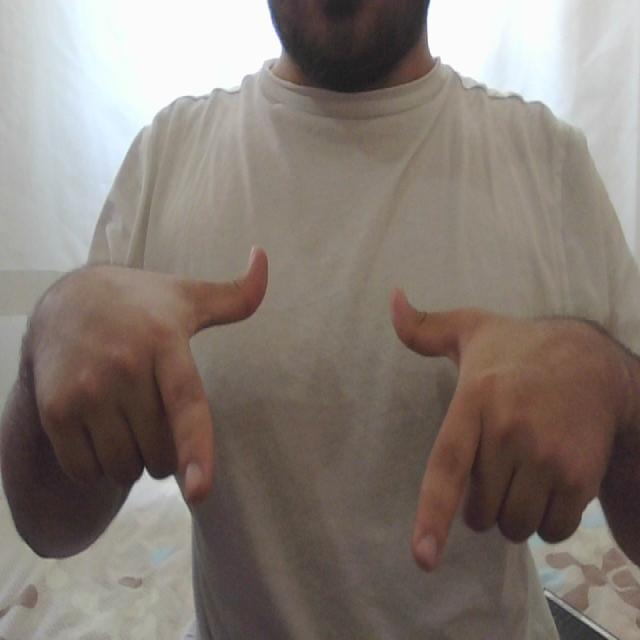Nerede: (157, 233, 493, 577)
